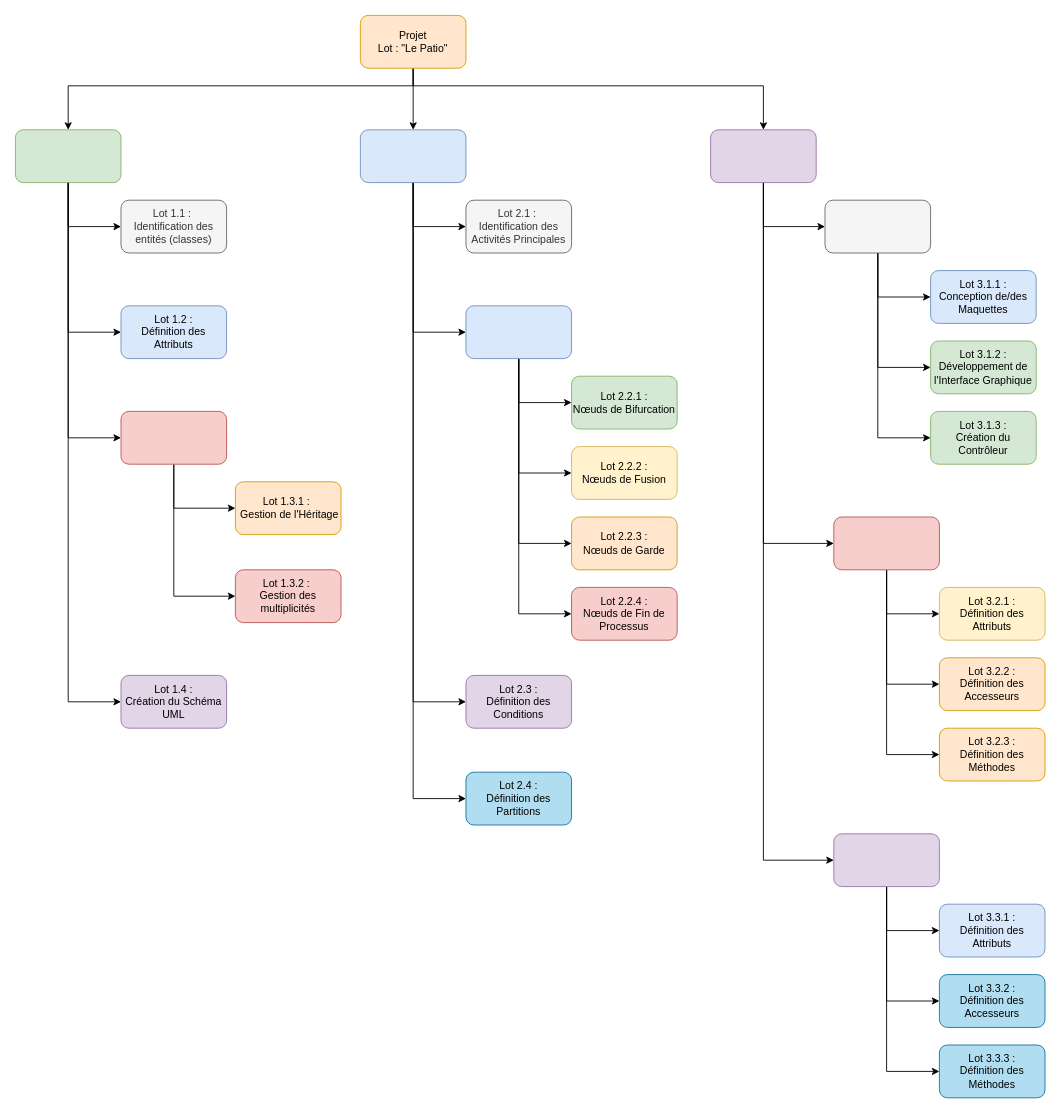
The diagram is 1060 pixels wide and 1113 high, and some of its shapes have lost their labels. Each missing label, with the centre of its shape:
"Lot 1 : Conception du Modèle de Données (UML)" goes at [68,156].
"Lot 1.3 : Définition des Relations" goes at [173,437].
"Lot 2 : Modélisation des Processus (Diagramme d'activité)" goes at [412,156].
"Lot 2.2 : Définition des Nœuds de Contrôle" goes at [518,332].
"Lot 3 : Implémentation et Interface Utilisateur (JAVA & IHM)" goes at [763,156].
"Lot 3.1 : Conception de l'IHM" goes at [877,226].
"Lot 3.2 : Définition des Classes de Gestion des Réservations" goes at [886,543].
"Lot 3.3 : Définition des Classes pour l'Affichage des États et Statistiques" goes at [886,860].
